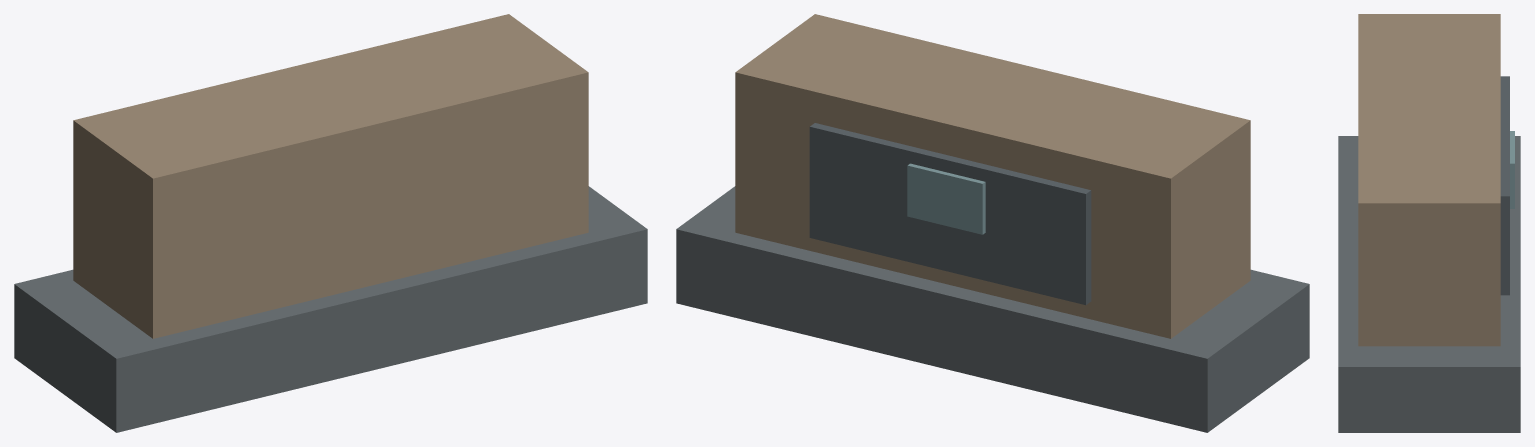
Rendered from iz3_school_canteen_02.glb.
3 renders of one model, left to right at view 1: azimuth 30°, elevation 25°; view 2: azimuth 150°, elevation 25°; view 3: azimuth 270°, elevation 25°, orthographic. The views are drawn at different scales.
Parts seen in each view (by area): view 1: cabinet, base; view 2: cabinet, base, panel, display; view 3: cabinet, base, panel, display.
Boxes of the visible parts, x1,y1,x2,y2 form: cabinet: [73, 14, 588, 338]; base: [14, 186, 647, 432]; cabinet: [735, 14, 1250, 338]; base: [676, 186, 1309, 432]; panel: [809, 123, 1091, 305]; display: [907, 163, 985, 234]; cabinet: [1358, 14, 1500, 346]; base: [1338, 136, 1520, 432]; panel: [1500, 76, 1509, 295]; display: [1510, 131, 1514, 208].
Size of the model in its own units: 2.4 by 1.01 by 0.8.
